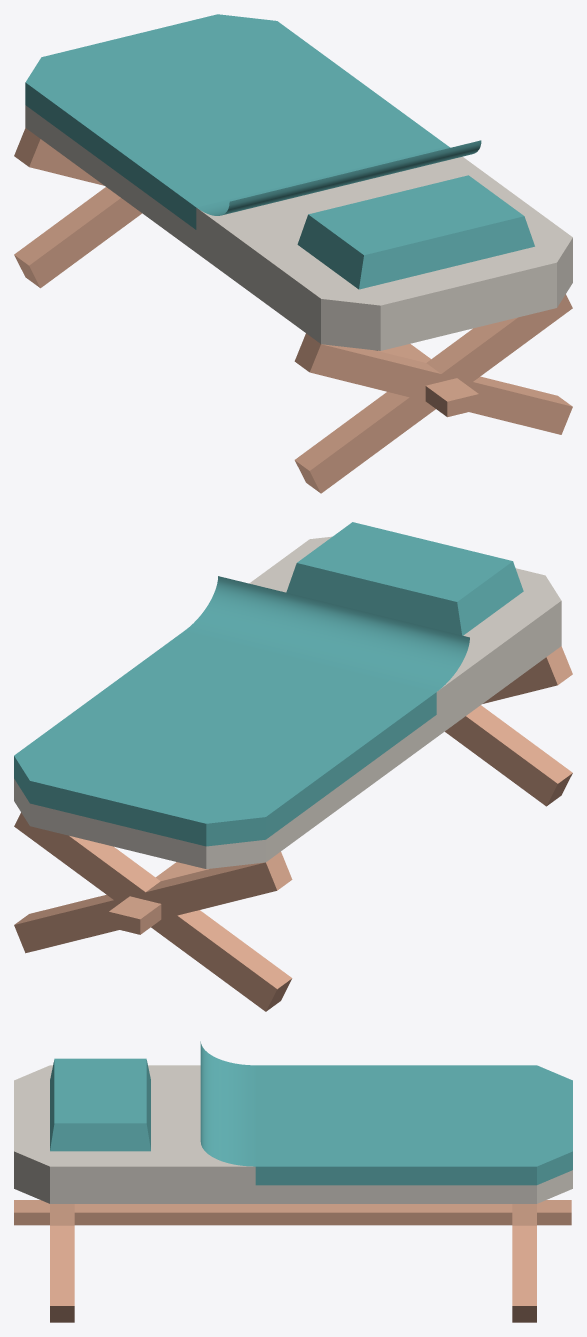
Rendered from bed.glb.
3 renders of one model, top to bottom at view 1: azimuth 30°, elevation 25°; view 2: azimuth 150°, elevation 25°; view 3: azimuth 270°, elevation 25°, orthographic. The views are drawn at different scales.
Parts seen in each view (by area): view 1: bed; view 2: bed; view 3: bed.
Boxes of the visible parts, x1,y1,x2,y2 form: bed: (14,14,572,493); bed: (14,522,572,1011); bed: (14,1041,572,1322).
Size of the model in its own units: 0.3349 by 0.2737 by 0.7473.
